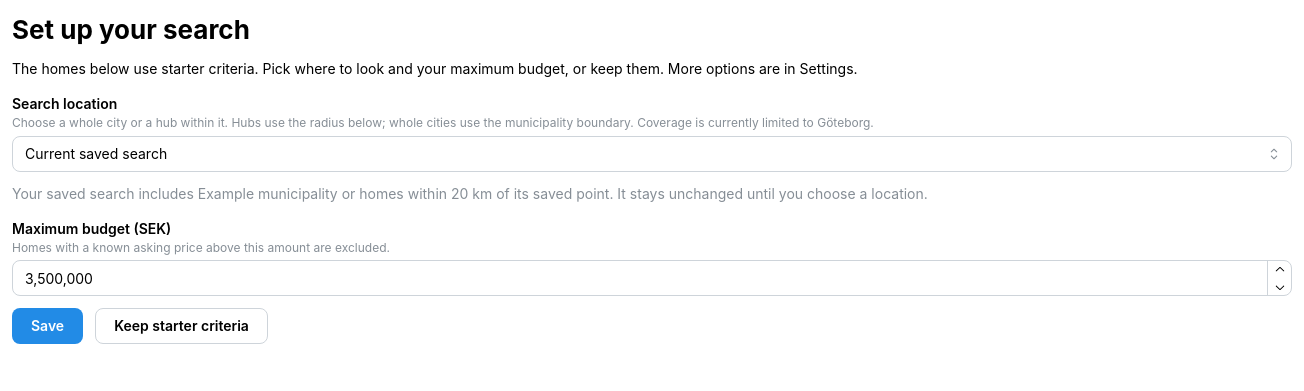
Test: keeps the card and shows the error when a save fails
Click the button "Keep starter criteria": click(182, 326) [95,308,268,344]
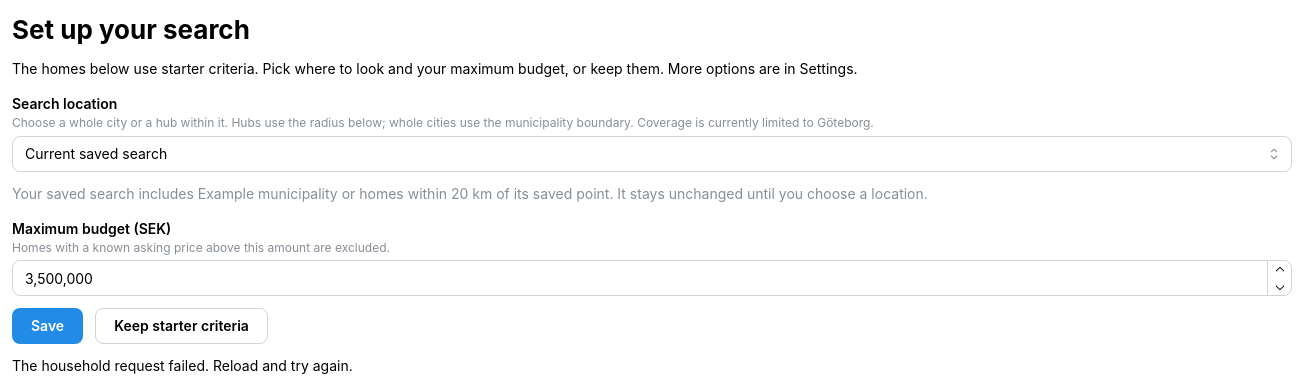
Expected: the heading "Set up your search" is shown, [12,14,250,45]
Now the message "The household request failed. Reload and try again." is shown, box [12,357,353,374]
